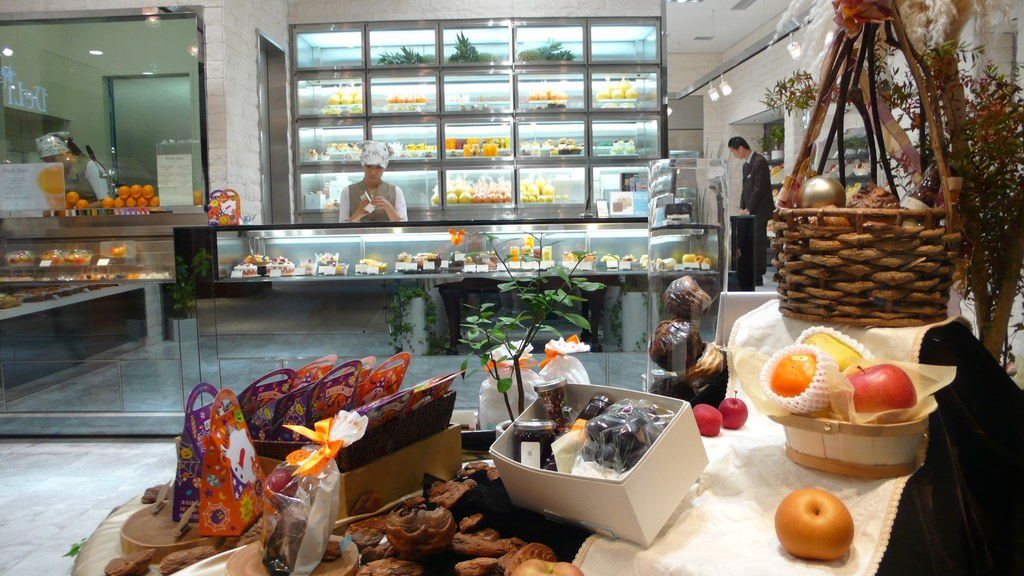Apple: (778, 488, 858, 565), (845, 362, 915, 413), (716, 389, 748, 429), (694, 404, 721, 437)
